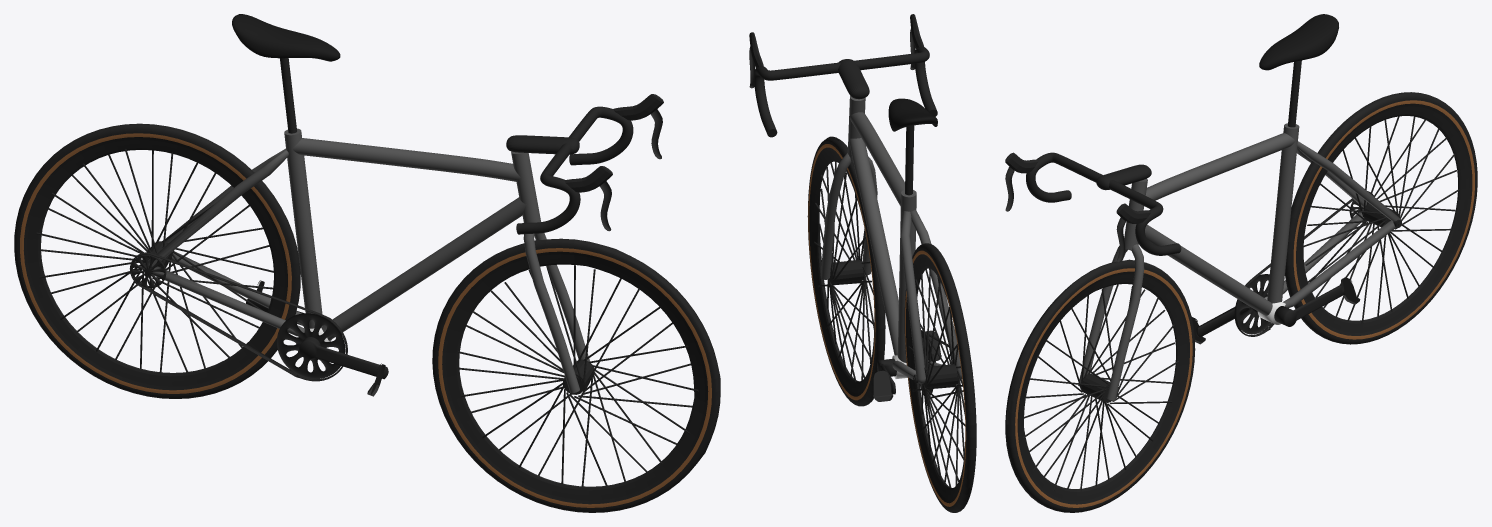
3 renders of one model, left to right at view 1: azimuth 30°, elevation 25°; view 2: azimuth 150°, elevation 25°; view 3: azimuth 270°, elevation 25°, orthographic. The views are drawn at different scales.
Visible parts, largest first — view 1: outer, Circle.005, Plane.002, spokes, Plane.003, Circle.006, Vert.001, bike, Circle.003, Chain, Cylinder.008, Cylinder.005; view 2: Plane.002, Circle.005, outer, Plane.003, Circle.006, spokes, Vert.001, bike, Cylinder.005, Cylinder.006, bike_front_wheel, Vert.003 (+4 smaller); view 3: outer, Circle.005, Plane.002, Plane.003, spokes, Circle.006, Vert.001, bike, Cylinder.009, Circle.003, Cylinder.005, Chain (+2 smaller).
Part boxes in pixels (left/top/right/bottom): outer: left=432, top=238, right=720, bottom=512; Circle.005: left=14, top=123, right=300, bottom=398; Plane.002: left=284, top=128, right=540, bottom=340; spokes: left=458, top=265, right=698, bottom=486; Plane.003: left=144, top=148, right=589, bottom=393; Circle.006: left=36, top=149, right=273, bottom=372; Vert.001: left=516, top=106, right=633, bottom=234; bike: left=232, top=14, right=340, bottom=61; Circle.003: left=277, top=313, right=345, bottom=379; Chain: left=129, top=252, right=347, bottom=381; Cylinder.008: left=299, top=337, right=388, bottom=379; Cylinder.005: left=506, top=135, right=579, bottom=154; Plane.002: left=847, top=95, right=916, bottom=362; Circle.005: left=904, top=243, right=976, bottom=512; outer: left=807, top=136, right=885, bottom=406; Plane.003: left=820, top=153, right=962, bottom=383; Circle.006: left=908, top=268, right=965, bottom=487; spokes: left=814, top=161, right=874, bottom=382; Vert.001: left=754, top=46, right=937, bottom=137; bike: left=888, top=98, right=937, bottom=131; Cylinder.005: left=838, top=59, right=869, bottom=99; Cylinder.006: left=913, top=364, right=957, bottom=388; bike_front_wheel: left=829, top=260, right=863, bottom=283; Vert.003: left=905, top=125, right=914, bottom=195; outer: left=1005, top=259, right=1195, bottom=512; Circle.005: left=1285, top=92, right=1477, bottom=344; Plane.002: left=1124, top=123, right=1299, bottom=315; Plane.003: left=1078, top=141, right=1400, bottom=400; spokes: left=1023, top=284, right=1179, bottom=491; Circle.006: left=1303, top=116, right=1459, bottom=323; Vert.001: left=1026, top=152, right=1181, bottom=255; bike: left=1259, top=14, right=1338, bottom=70; Cylinder.009: left=1274, top=284, right=1345, bottom=326; Circle.003: left=1237, top=274, right=1271, bottom=334; Cylinder.005: left=1096, top=164, right=1151, bottom=190; Chain: left=1234, top=191, right=1373, bottom=336.
Size of the model in its own units: 3.43 by 3.29 by 3.53.
